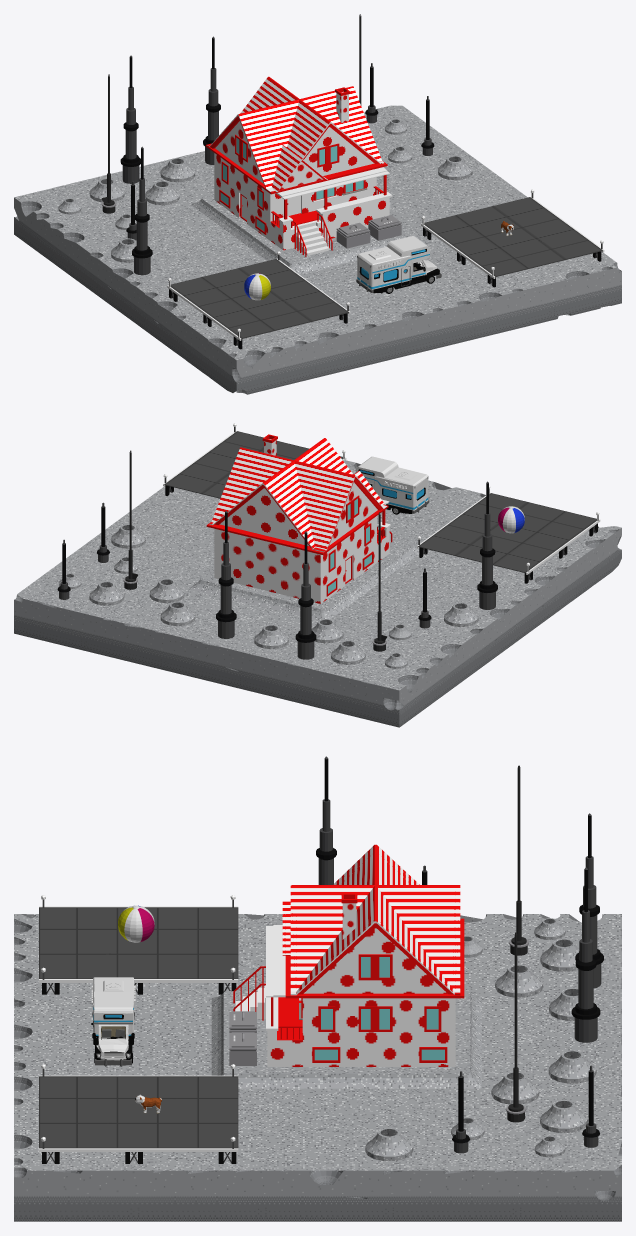
3 renders of one model, top to bottom at view 1: azimuth 30°, elevation 25°; view 2: azimuth 150°, elevation 25°; view 3: azimuth 270°, elevation 25°, orthographic. The views are drawn at different scales.
Parts seen in each view (by area): view 1: Cube.027, Cube.196, Cube.026, Cube.025, Cube.028, VEHICLES_CAMPER, Cylinder.020, Cylinder.021, Cylinder.017, Cube.029, Cube.030, Cylinder.027 (+4 smaller); view 2: Cube.027, Cube.196, Cube.025, Cube.028, Cube.026, VEHICLES_CAMPER, Cylinder.020, Cylinder.021, Cylinder.017, Cylinder.031, Cylinder.028, Cylinder.029 (+8 smaller); view 3: Cube.027, Cube.196, Cube.026, Cube.025, Cube.028, VEHICLES_CAMPER, Cylinder.017, Cylinder.020, Cylinder.021, Cylinder.033, Cylinder.031, Cylinder.029 (+10 smaller).
Boxes of the visible parts, x1=… form: Cube.027: x1=14, y1=105, x2=621, y2=394; Cube.196: x1=205, y1=76, x2=392, y2=256; Cube.026: x1=421, y1=189, x2=604, y2=287; Cube.025: x1=167, y1=251, x2=350, y2=349; Cube.028: x1=191, y1=195, x2=424, y2=274; VEHICLES_CAMPER: x1=356, y1=236, x2=441, y2=293; Cylinder.020: x1=120, y1=55, x2=140, y2=183; Cylinder.021: x1=132, y1=146, x2=152, y2=275; Cylinder.017: x1=203, y1=36, x2=220, y2=164; Cube.029: x1=336, y1=222, x2=370, y2=248; Cube.030: x1=368, y1=215, x2=401, y2=240; Cylinder.027: x1=160, y1=158, x2=195, y2=182; Cube.027: x1=14, y1=460, x2=621, y2=727; Cube.196: x1=206, y1=434, x2=392, y2=603; Cube.025: x1=417, y1=485, x2=600, y2=583; Cube.028: x1=190, y1=538, x2=419, y2=620; Cube.026: x1=163, y1=423, x2=346, y2=498; VEHICLES_CAMPER: x1=355, y1=456, x2=429, y2=514; Cylinder.020: x1=295, y1=531, x2=316, y2=659; Cylinder.021: x1=477, y1=481, x2=497, y2=609; Cylinder.017: x1=216, y1=510, x2=236, y2=638; Cylinder.031: x1=89, y1=581, x2=124, y2=605; Cylinder.028: x1=331, y1=640, x2=365, y2=664; Cylinder.029: x1=160, y1=601, x2=195, y2=626; Cube.027: x1=14, y1=914, x2=621, y2=1221; Cube.196: x1=233, y1=844, x2=464, y2=1066; Cube.026: x1=39, y1=1064, x2=238, y2=1163; Cube.025: x1=39, y1=895, x2=238, y2=994; Cube.028: x1=211, y1=991, x2=481, y2=1088; VEHICLES_CAMPER: x1=91, y1=977, x2=135, y2=1066; Cylinder.017: x1=571, y1=867, x2=600, y2=1042; Cylinder.020: x1=575, y1=813, x2=603, y2=988; Cylinder.021: x1=316, y1=756, x2=336, y2=884; Cylinder.033: x1=365, y1=1128, x2=413, y2=1160; Cylinder.031: x1=540, y1=1100, x2=587, y2=1132; Cylinder.029: x1=548, y1=1050, x2=596, y2=1083.
Bounding box in the file's own units: 4000 × 1799 × 4000.
40 materials, 5 textured.
